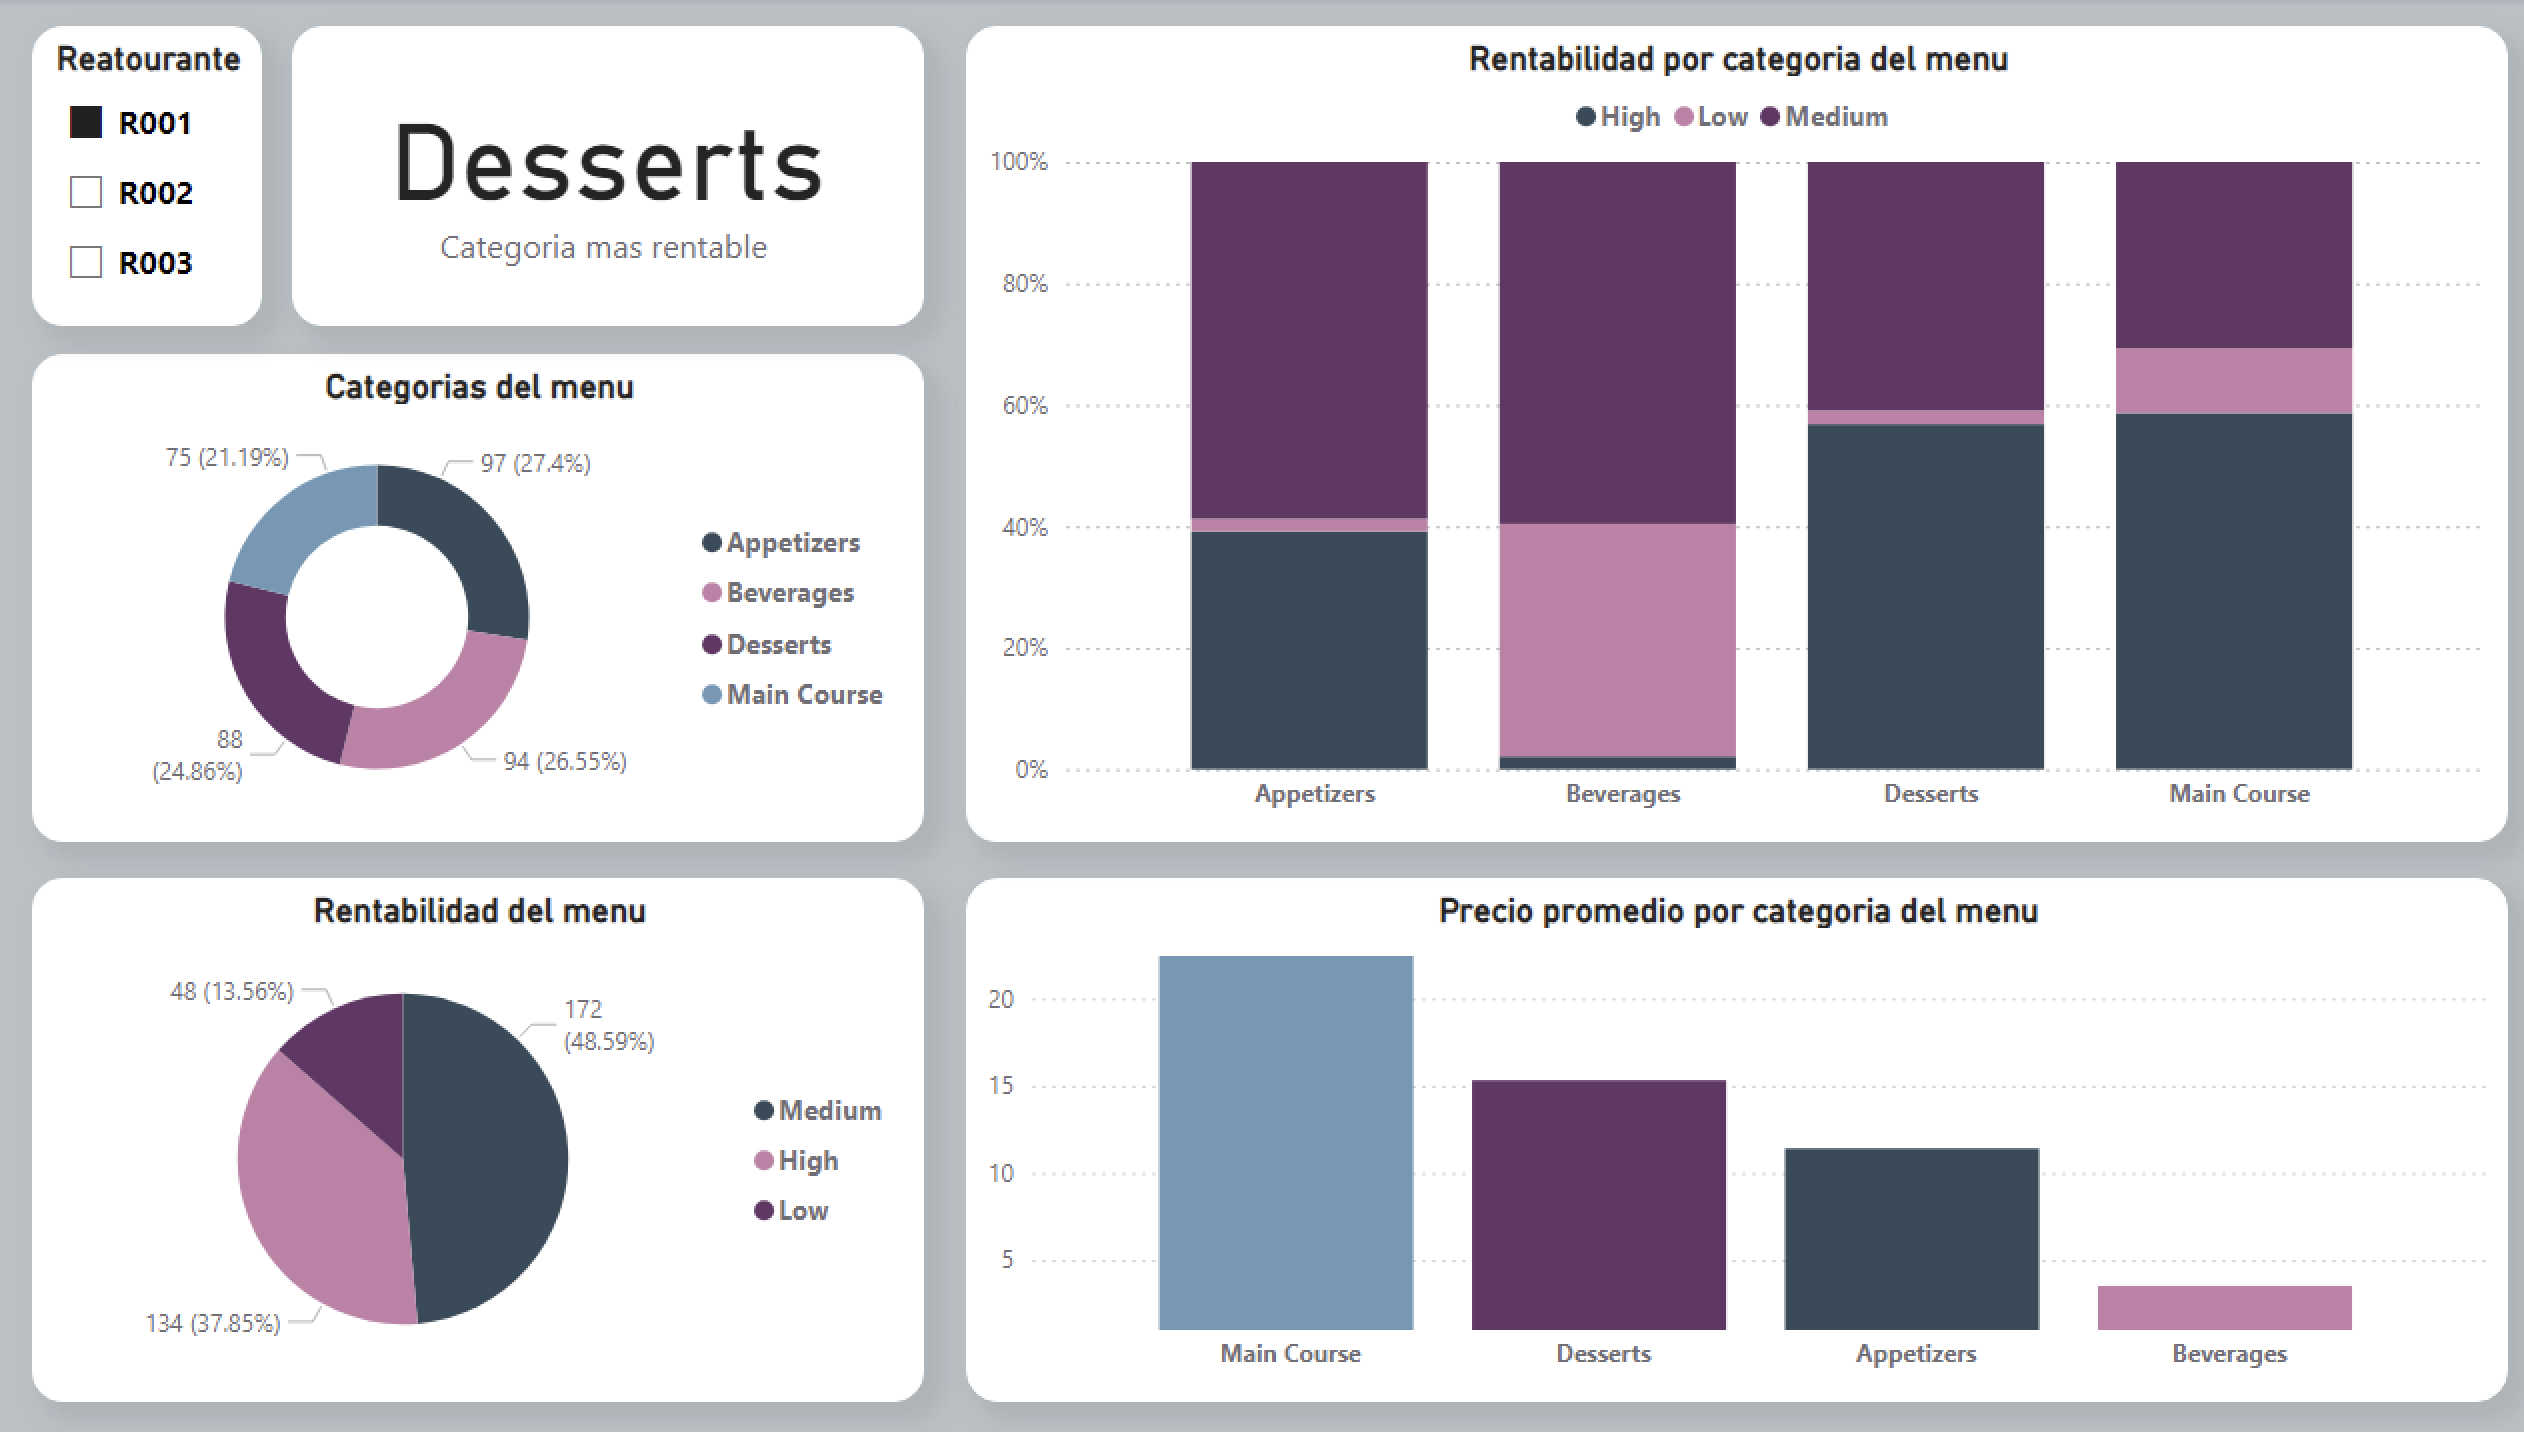

The page's visual inventory and layout, read from the dashboard file:
{"tool":"powerbi","page":{"name":"Página 1","canvas":[1280,720],"ordinal":0},"visuals":[{"type":"donutChart","title":"Categorias del menu","fields":{"Category":["menu_data.MenuCategory"],"Y":["CountNonNull(menu_data.MenuCategory)"]},"box":[17.5,178.8,446.2,243.8],"z":0},{"type":"slicer","title":"Reatourante","fields":{"Values":["menu_data.RestaurantID"]},"box":[17.5,15,115,150],"z":1000},{"type":"columnChart","title":"Precio promedio por categoria del menu","fields":{"Y":["Avg(menu_data.Price)"],"Category":["menu_data.MenuCategory"],"Series":["menu_data.MenuCategory"]},"box":[485,432.5,771.2,270],"z":2000},{"type":"pieChart","title":"Rentabilidad del menu","fields":{"Category":["menu_data.Profitability"],"Y":["CountNonNull(menu_data.RestaurantID)"]},"box":[17.5,441.2,446.2,261.2],"z":3000},{"type":"card","fields":{"Values":["menu_data.Moda"]},"box":[147.5,15,316.2,150],"z":4000},{"type":"actionButton","box":[0,0,100,40],"z":5000},{"type":"hundredPercentStackedColumnChart","title":"Rentabilidad por categoria del menu","fields":{"Category":["menu_data.MenuCategory"],"Series":["menu_data.Profitability"],"Y":["CountNonNull(menu_data.MenuItem)"]},"box":[485,15,771.2,407.5],"z":6000}]}

Visuals, with their boxes in screenshot pixels (x1, y1, x2, y2), scaled from the page's 1280x720 canvas onto the 2524x1432 screenshot:
"Categorias del menu" donutChart: 35 356 914 841
"Reatourante" slicer: 35 30 261 328
"Precio promedio por categoria del menu" columnChart: 956 860 2477 1397
"Rentabilidad del menu" pieChart: 35 877 914 1397
card - menu_data.Moda: 291 30 914 328
actionButton: 0 0 197 80
"Rentabilidad por categoria del menu" hundredPercentStackedColumnChart: 956 30 2477 840
